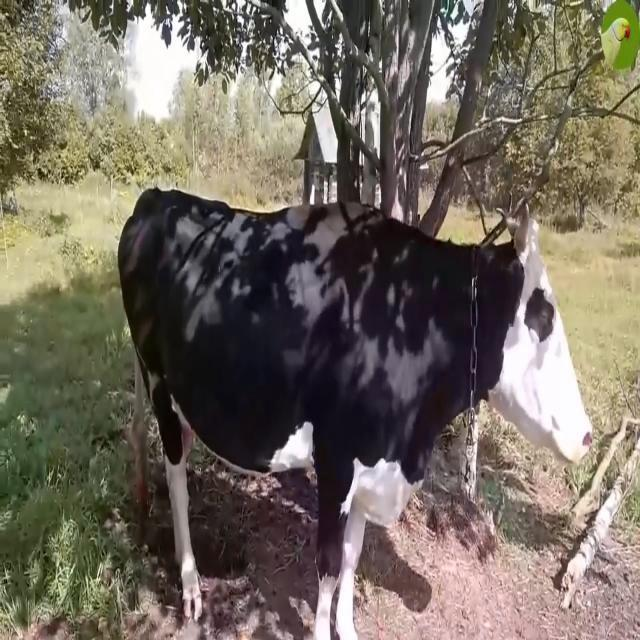cow: (119, 190, 592, 639)
